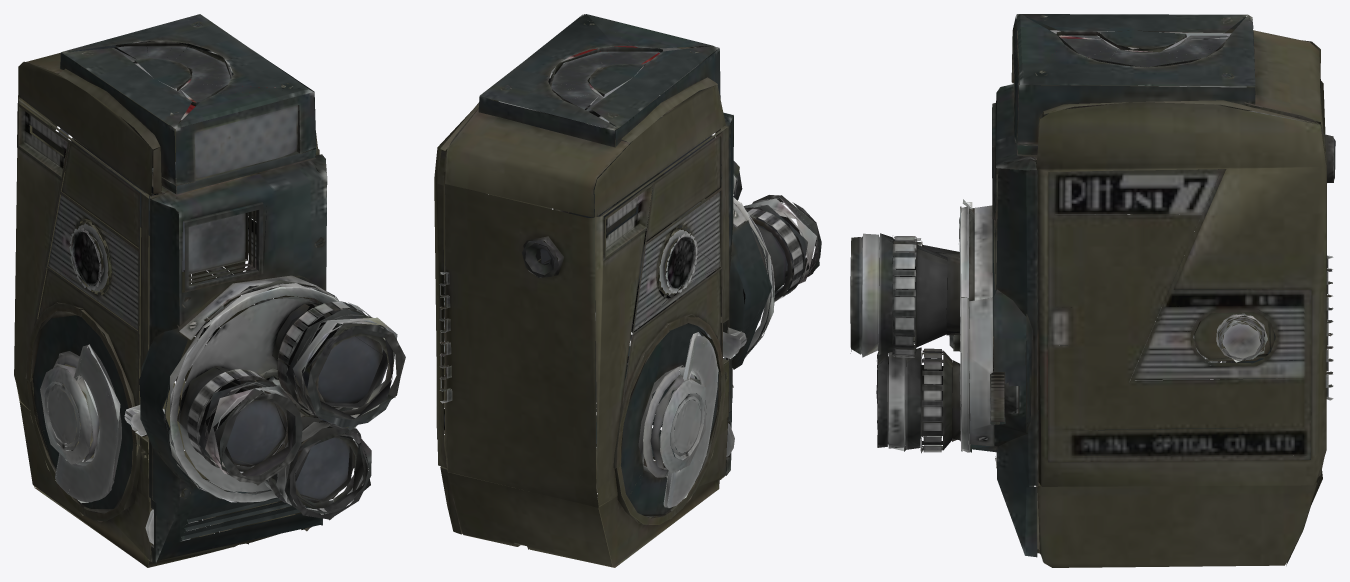
The model's file is ph_vintage_video_camera.glb.
3 views of the same model, side by side, from view 1: azimuth 30°, elevation 25°; view 2: azimuth 150°, elevation 25°; view 3: azimuth 270°, elevation 25° (orthographic). The views are drawn at different scales.
Visible parts, largest first — view 1: vintage_video_camera; view 2: vintage_video_camera; view 3: vintage_video_camera.
Boxes of the visible parts, left/top/right/bottom form: vintage_video_camera: left=14, top=14, right=405, bottom=567; vintage_video_camera: left=434, top=14, right=821, bottom=567; vintage_video_camera: left=850, top=14, right=1335, bottom=567.
Bounding box in the file's own units: 0.0714 × 0.1445 × 0.1321.
2 materials, 2 textured.
